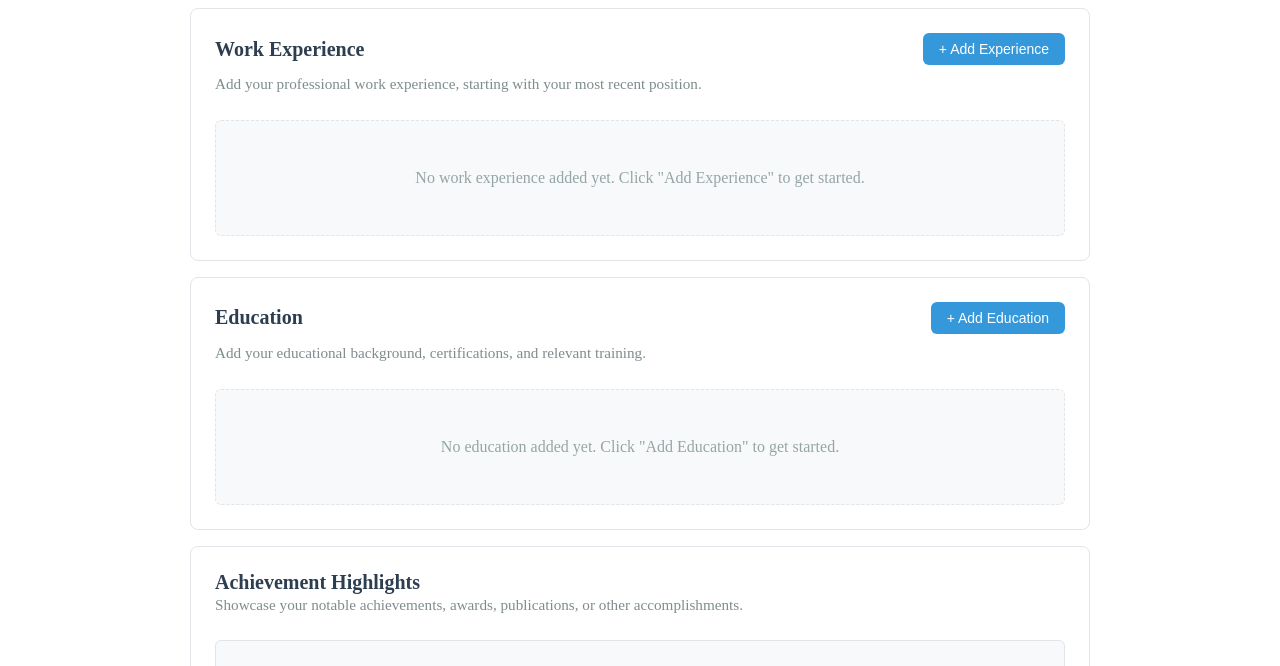
Test: ExperienceStep Component › Work Experience Management › handles current job checkbox properly
Click the button "+ Add Experience".
click(994, 49)  # box top-left (923, 33), bottom-right (1065, 65)
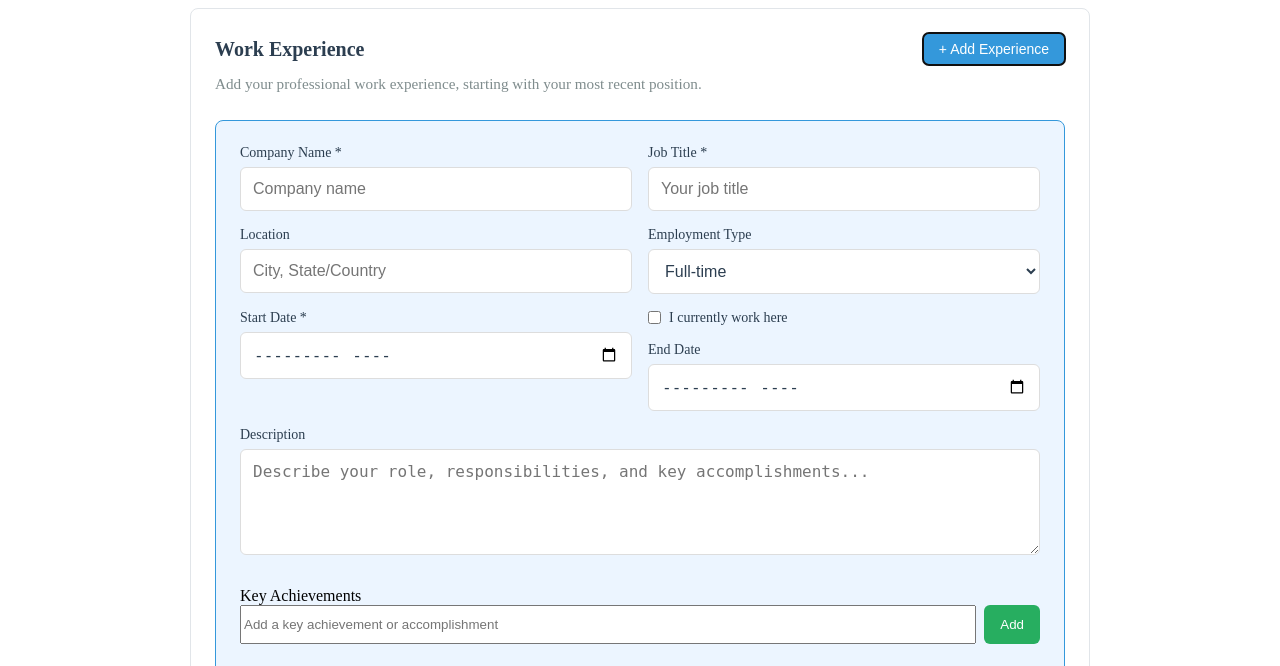
Click the checkbox labelled "I currently work here".
click(654, 318)  # box top-left (648, 311), bottom-right (661, 324)
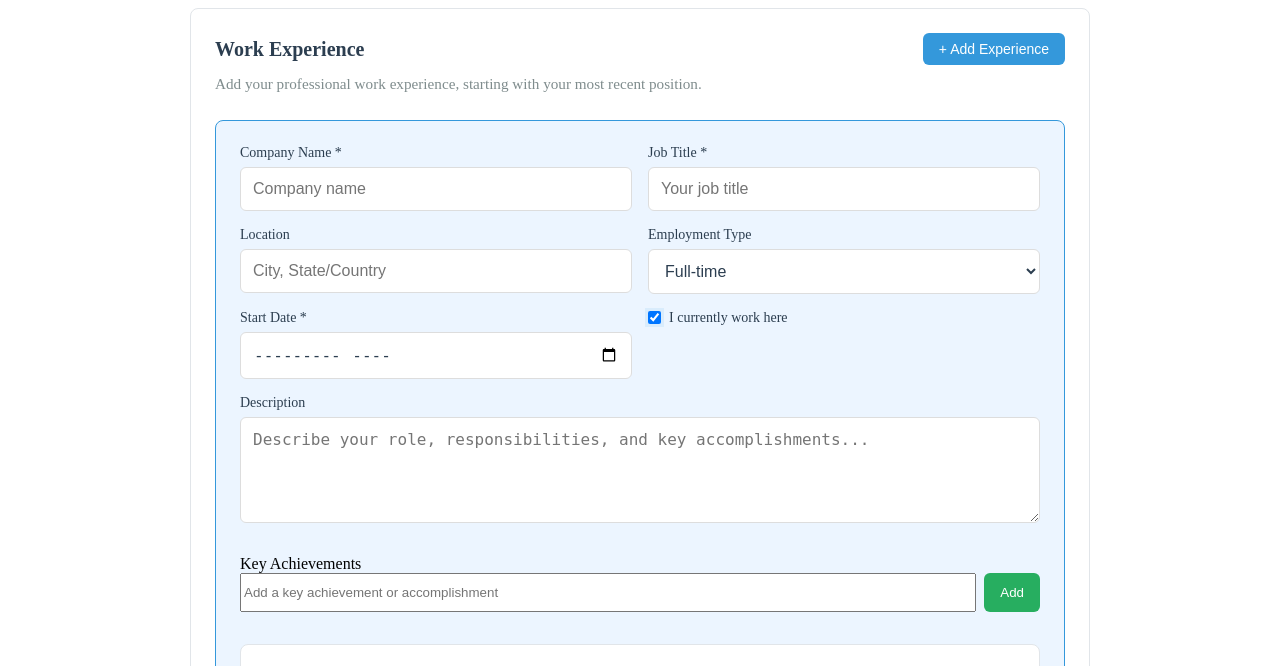
Expected: the label labelled "End Date" is gone
